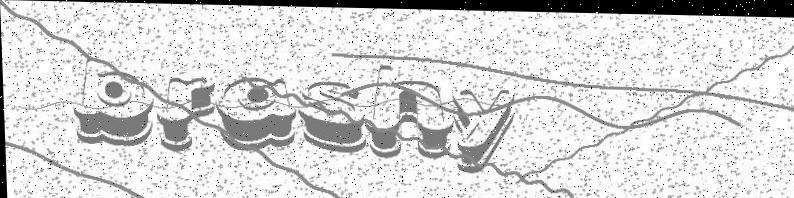a: (214, 74, 298, 152)
b: (68, 56, 153, 146)
h: (367, 62, 453, 157)
r: (152, 75, 217, 153)
s: (296, 77, 368, 154)
y: (450, 83, 517, 176)
